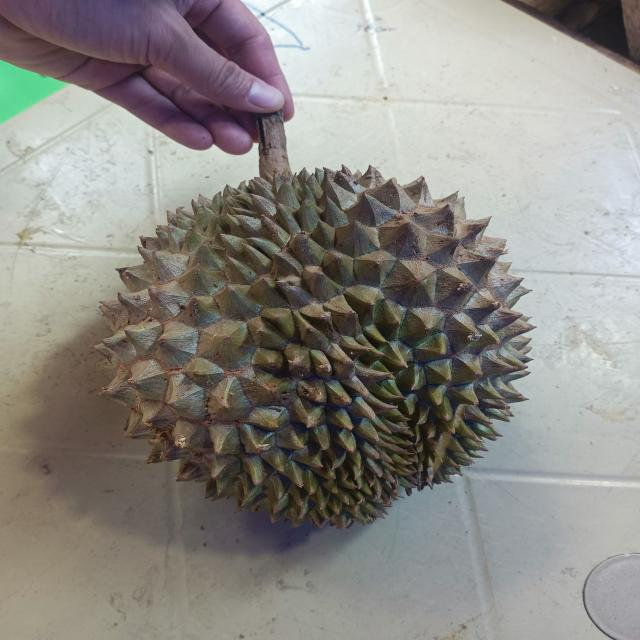mature: (46, 158, 596, 580)
